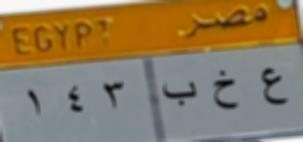1: (23, 82, 48, 122)
3: (101, 74, 131, 114)
4: (63, 82, 88, 118)
ain: (256, 61, 291, 114)
baa: (162, 74, 198, 111)
khaa: (211, 62, 240, 115)
